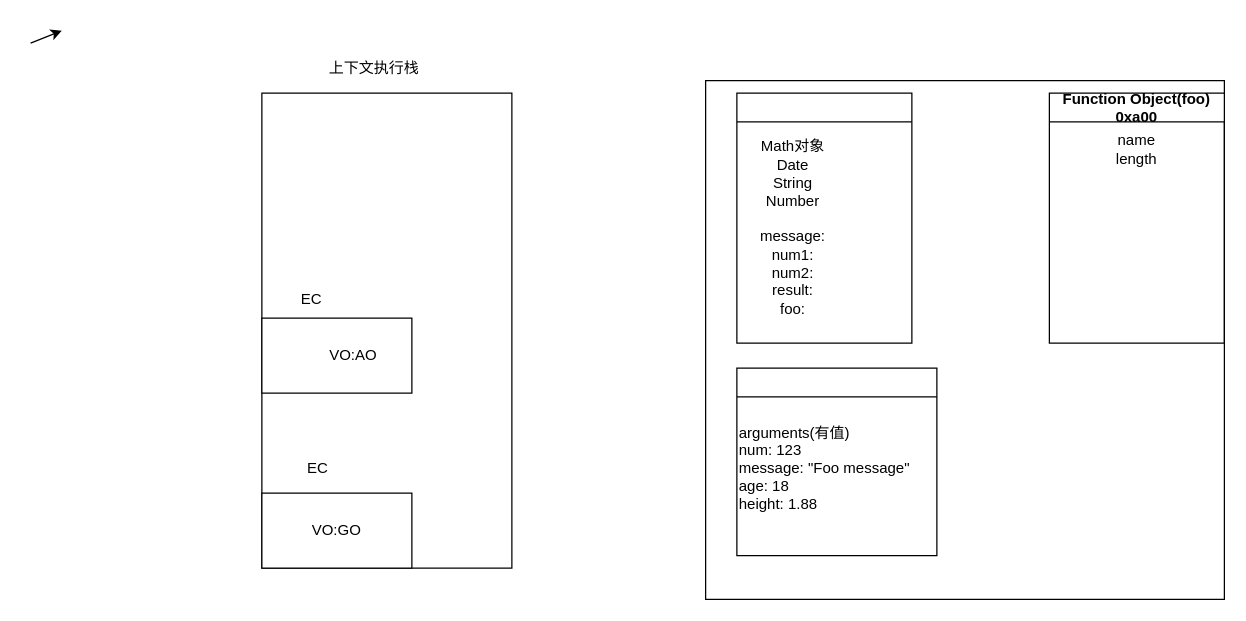
The diagram is 1246 pixels wide and 621 high, and some of its shapes have lost their labels. The box of each missing label's shape, as (x1, y1, x2, y2) in pixels:
Activation Object: (736, 367, 937, 556)
Global Object(window): (736, 92, 912, 343)
